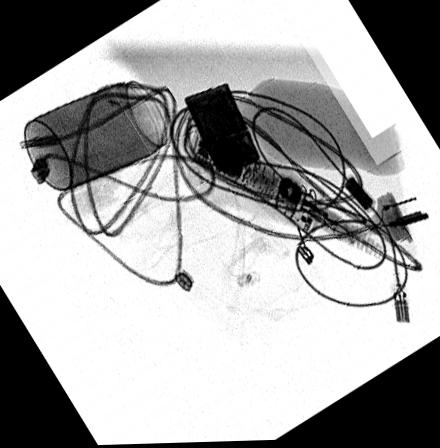Lighter: (182, 83, 260, 174)
